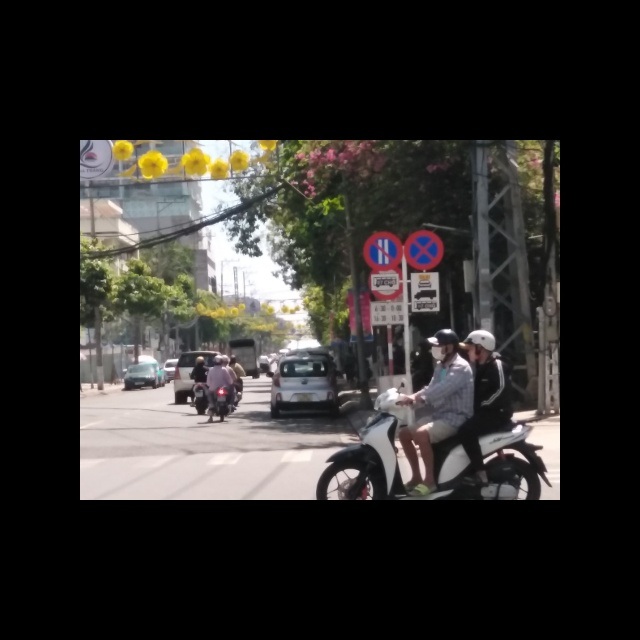Cấm dừng xe và đỗ xe: (404, 229, 444, 270)
Cấm đỗ xe ngày chẵn: (362, 230, 404, 271)
